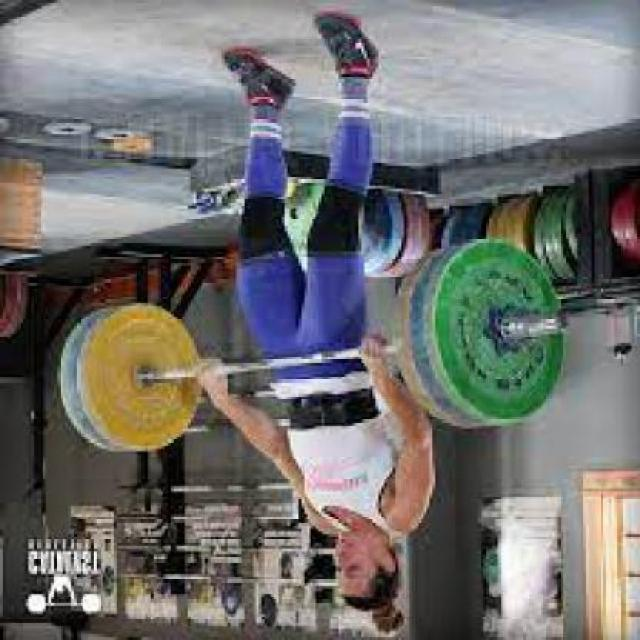Barbell: (547, 304, 575, 336)
